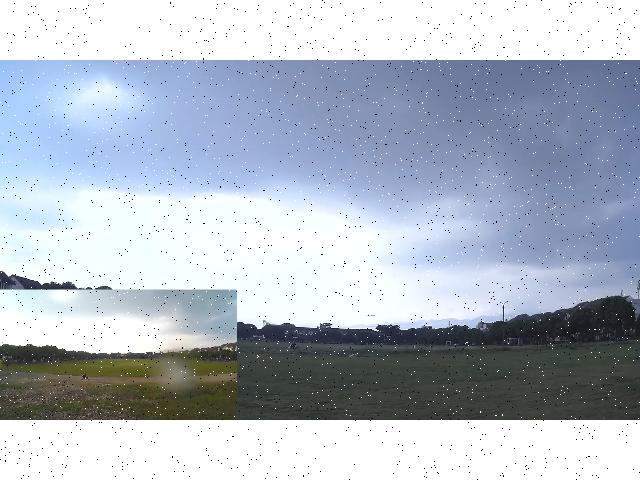Anti-Drone: (351, 308, 383, 323)
